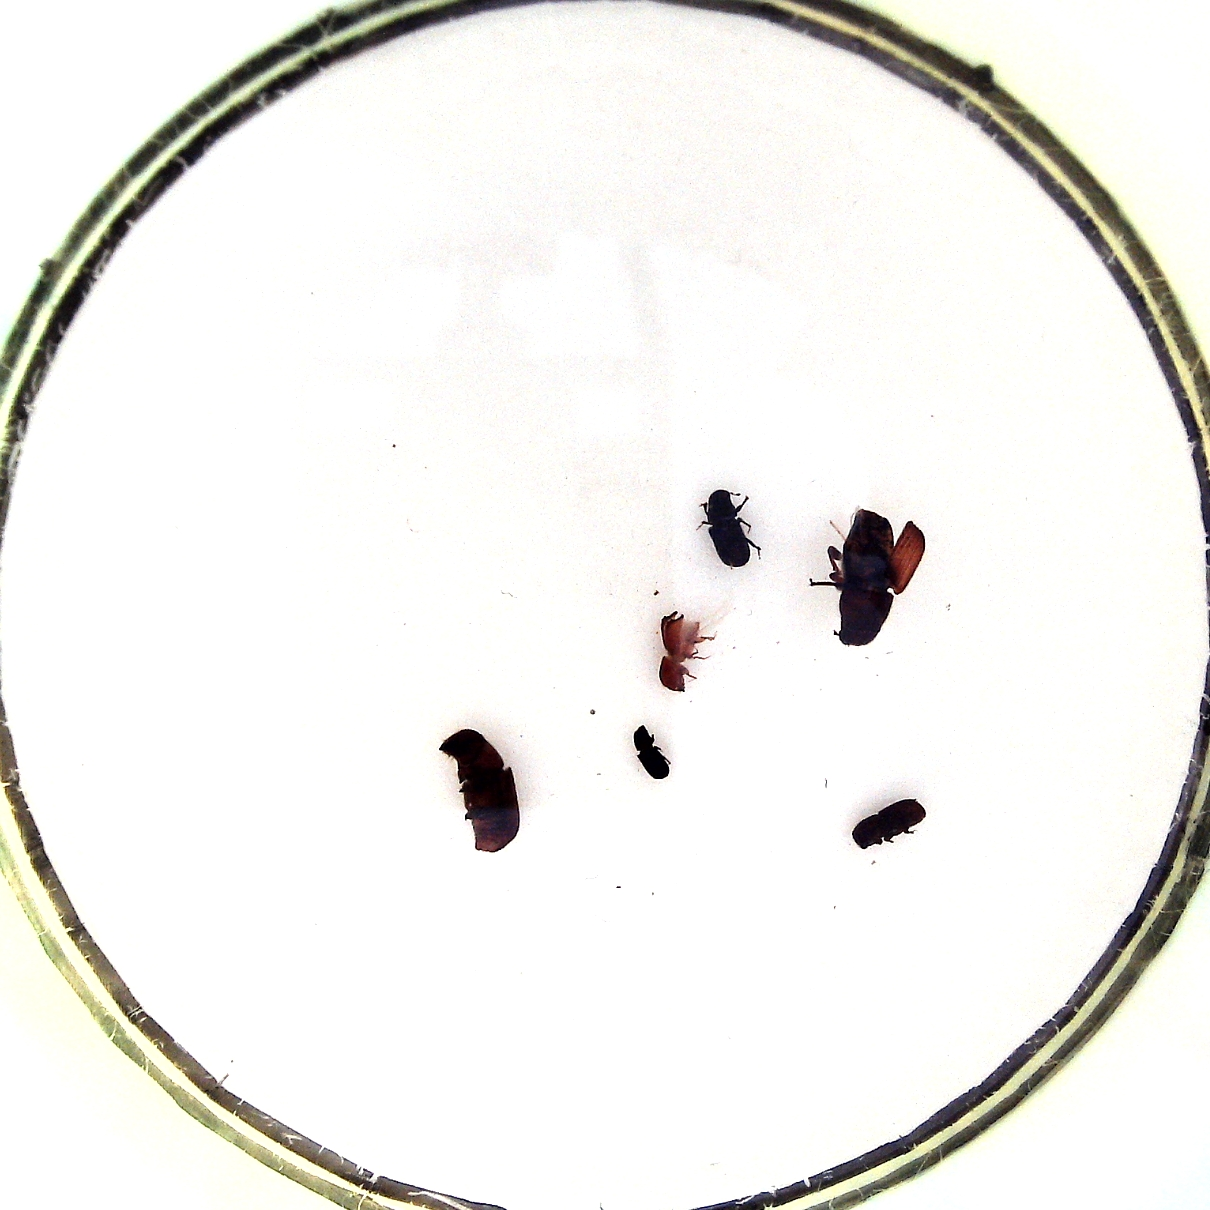Leconte: (816, 506, 926, 647), (435, 726, 524, 855)
Linnaeus: (849, 796, 929, 850)
acuminatus: (656, 611, 717, 694)
armandi: (697, 488, 761, 568)
coleoptera: (632, 722, 671, 783)
